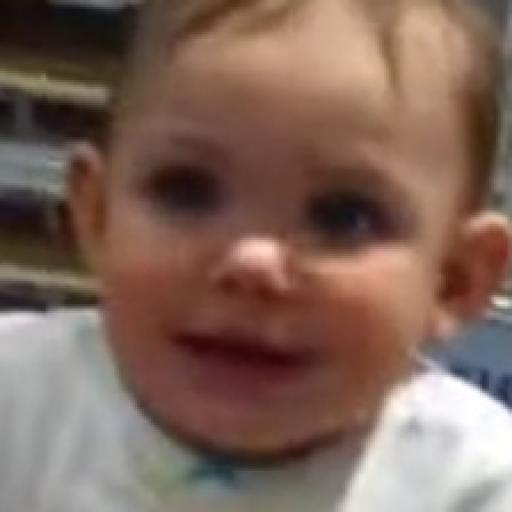Autism: (93, 23, 512, 458)
